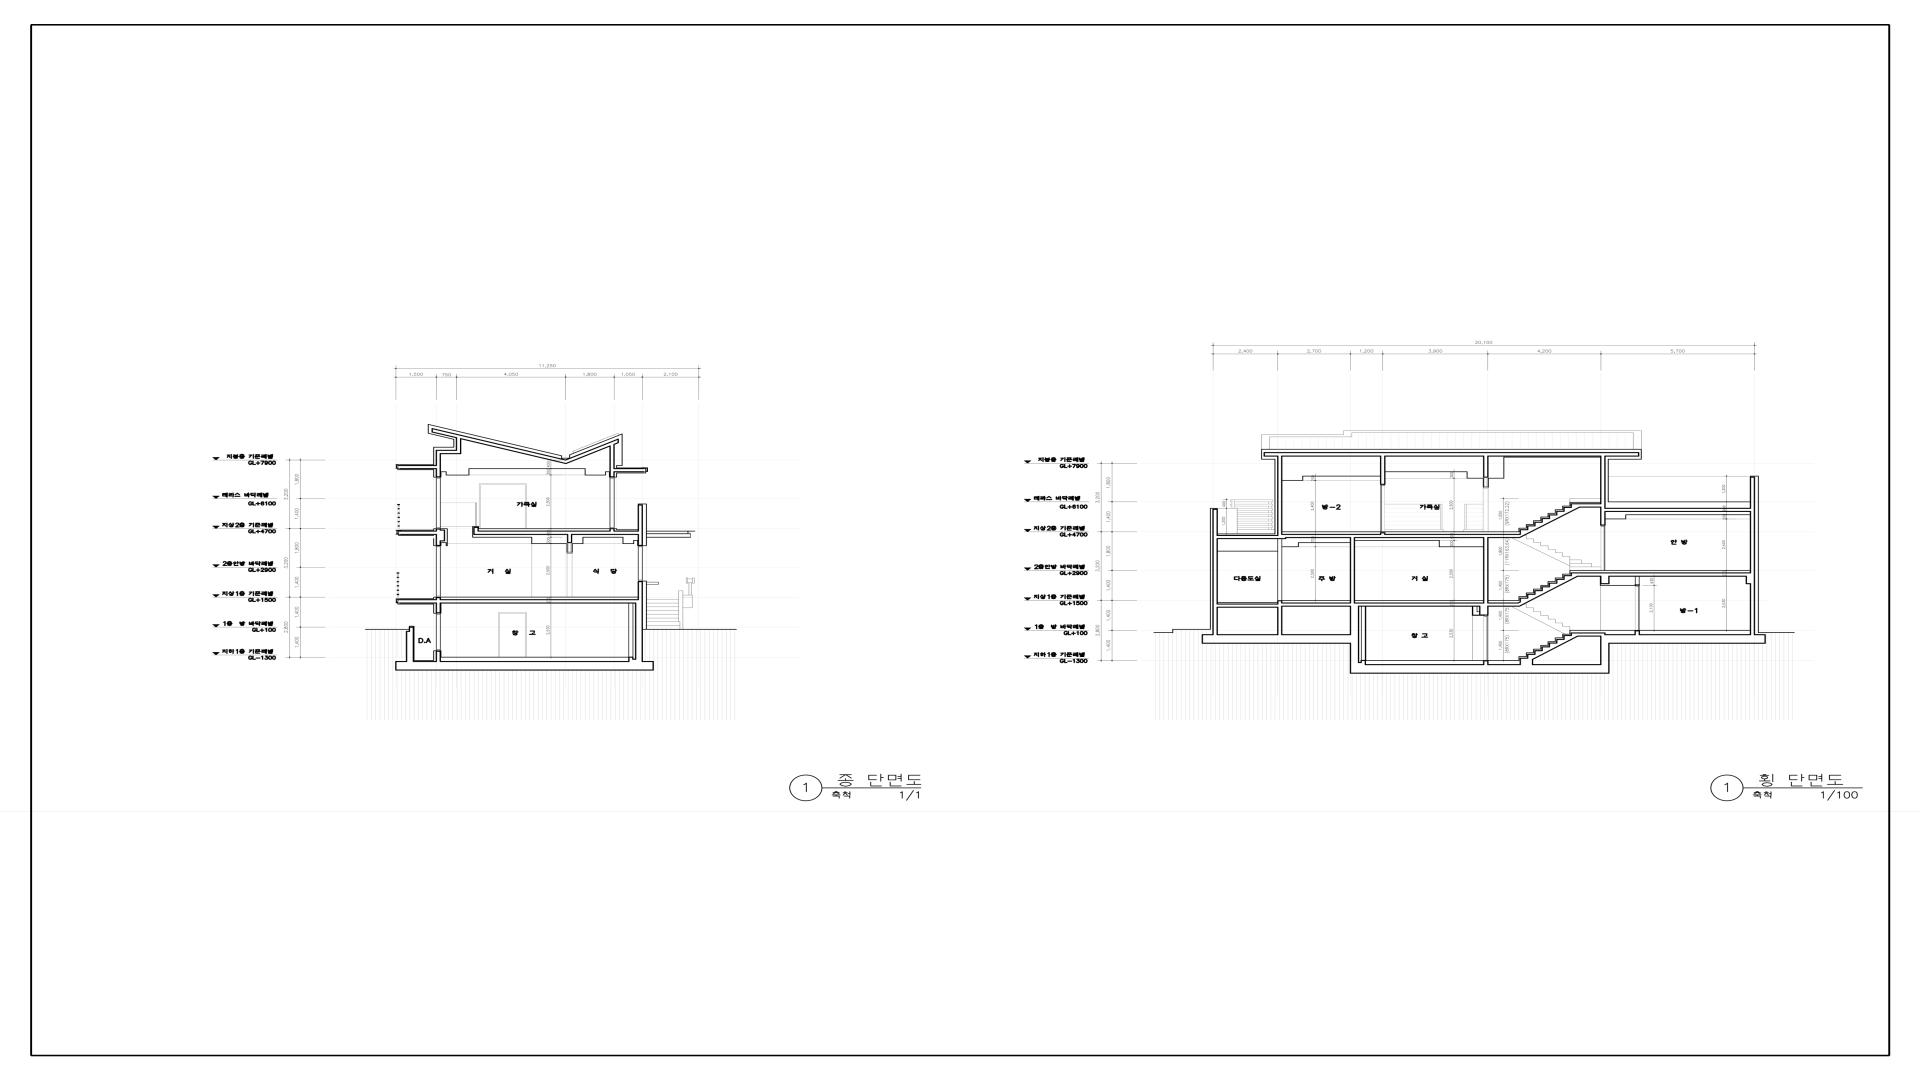door: (479, 484, 527, 529), (498, 612, 527, 658), (1380, 485, 1386, 532), (1483, 487, 1489, 532), (1483, 616, 1489, 660), (1600, 526, 1606, 570), (567, 552, 572, 598), (1635, 585, 1640, 630)
wall: (432, 428, 619, 464), (398, 581, 643, 604), (395, 651, 654, 671), (1218, 600, 1519, 616), (1359, 660, 1610, 674), (1609, 630, 1766, 644), (1218, 532, 1520, 539), (1264, 452, 1639, 457), (1202, 634, 1359, 644), (1746, 477, 1755, 634), (473, 527, 638, 535), (1578, 633, 1610, 664), (628, 604, 643, 661), (1212, 509, 1218, 635), (1578, 573, 1746, 577), (1606, 508, 1750, 512), (1483, 538, 1489, 603), (1277, 457, 1282, 534), (1350, 538, 1355, 603), (628, 604, 634, 657), (1600, 457, 1606, 508), (406, 627, 415, 661), (1277, 539, 1282, 600), (1350, 644, 1359, 674), (1361, 607, 1366, 660), (1350, 607, 1359, 634), (638, 505, 643, 546), (609, 445, 615, 478), (1380, 457, 1386, 485), (1277, 608, 1283, 634), (436, 529, 445, 546), (398, 531, 436, 535), (398, 465, 436, 469), (1483, 457, 1489, 478), (615, 468, 646, 472), (436, 454, 441, 478), (1600, 508, 1606, 526), (1580, 503, 1600, 508), (456, 438, 461, 454), (436, 450, 456, 454), (1600, 577, 1610, 584), (1483, 478, 1489, 487), (436, 604, 441, 614), (567, 543, 572, 552), (1635, 577, 1640, 585), (567, 535, 572, 543)
window: (436, 546, 441, 597), (436, 478, 441, 529), (610, 478, 615, 528), (436, 614, 441, 651), (638, 546, 643, 581)
